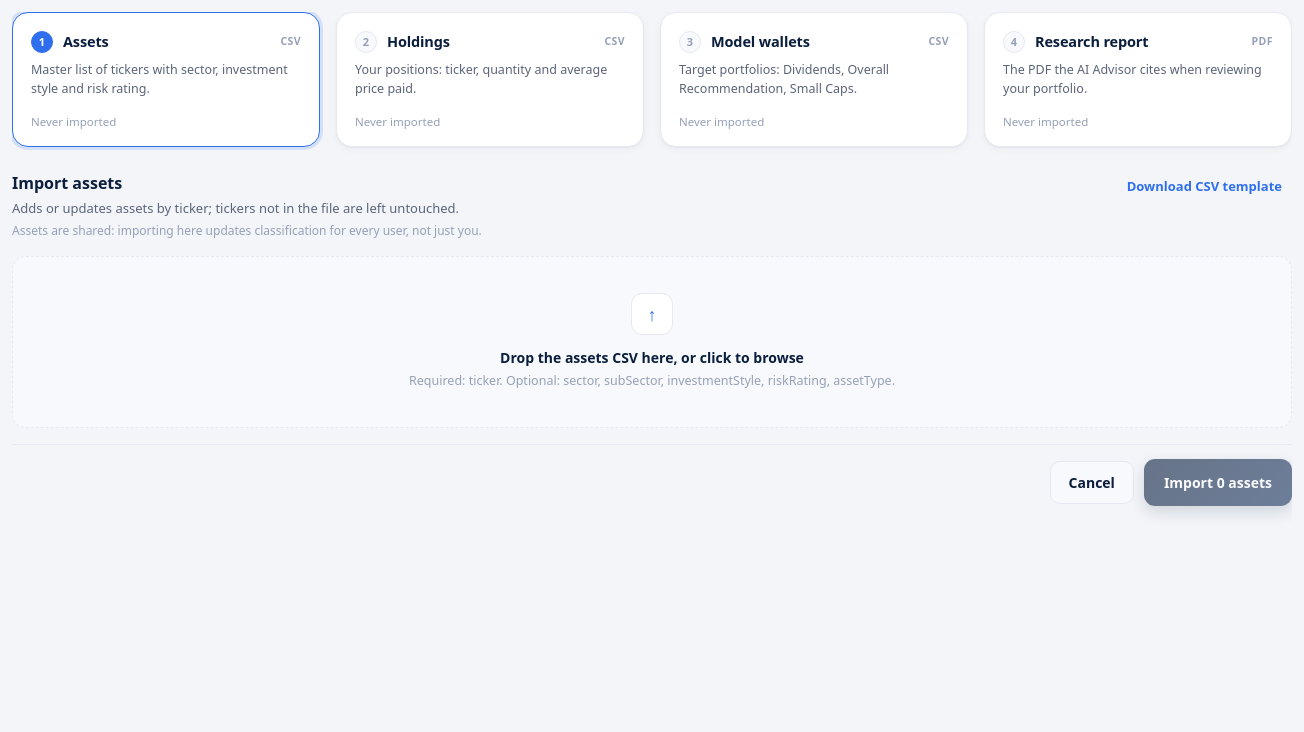
Test: DataSourcesPanel › reaches the report import panel through the Research report card
Click the button "Research report": (1138, 79) [984,12,1292,147]
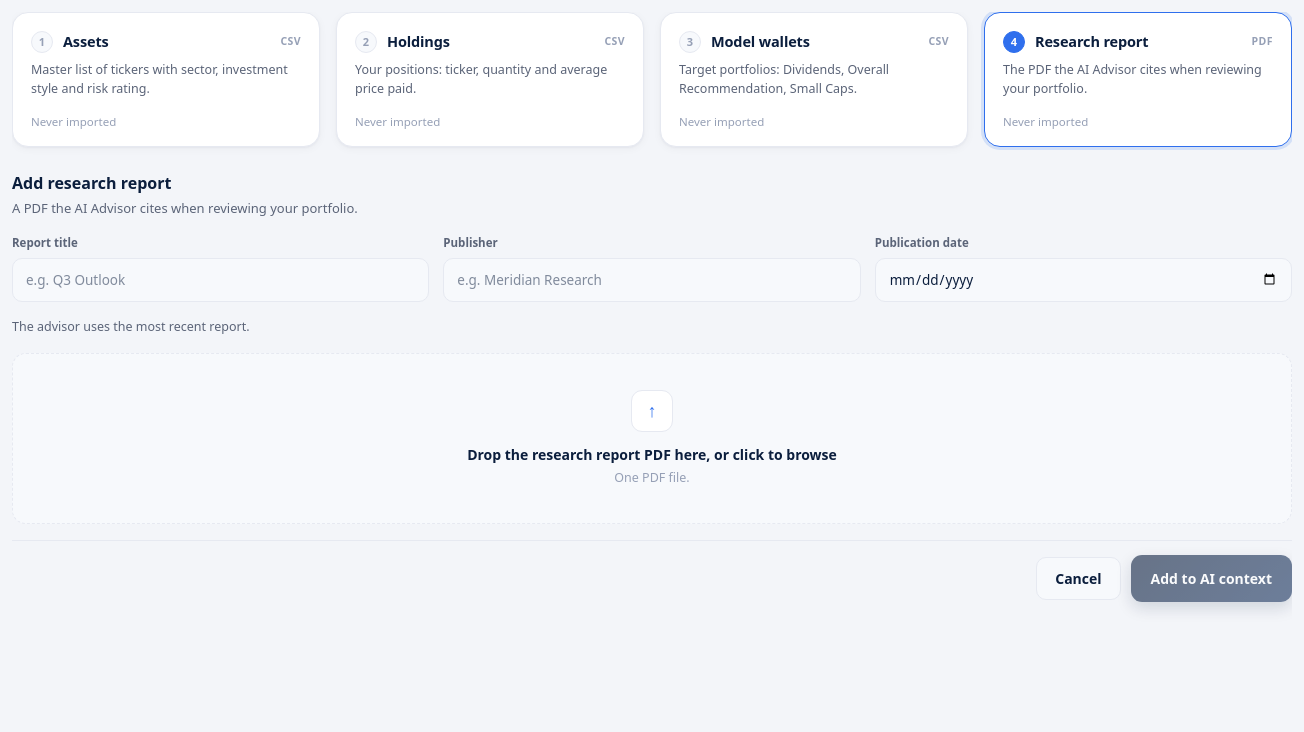
Now the heading "Add research report" is shown, box [12,172,171,194]
Now the element that starts with "Add research report" is shown, box [12,171,1292,602]
